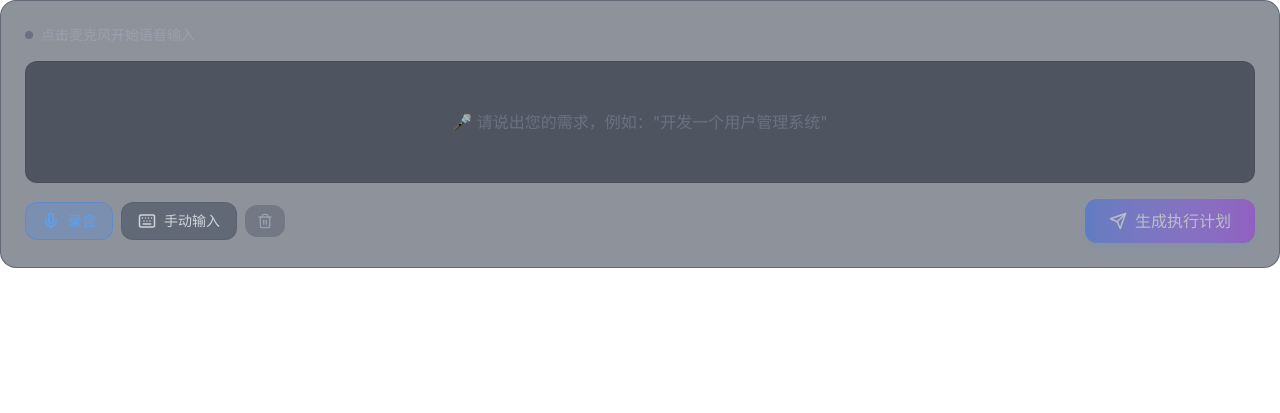
Test case: VoiceInput › 点击手动输入按钮应该显示文本输入框
Step 1. Click the button "手动输入" → [179, 221], box 121,202 -> 237,240
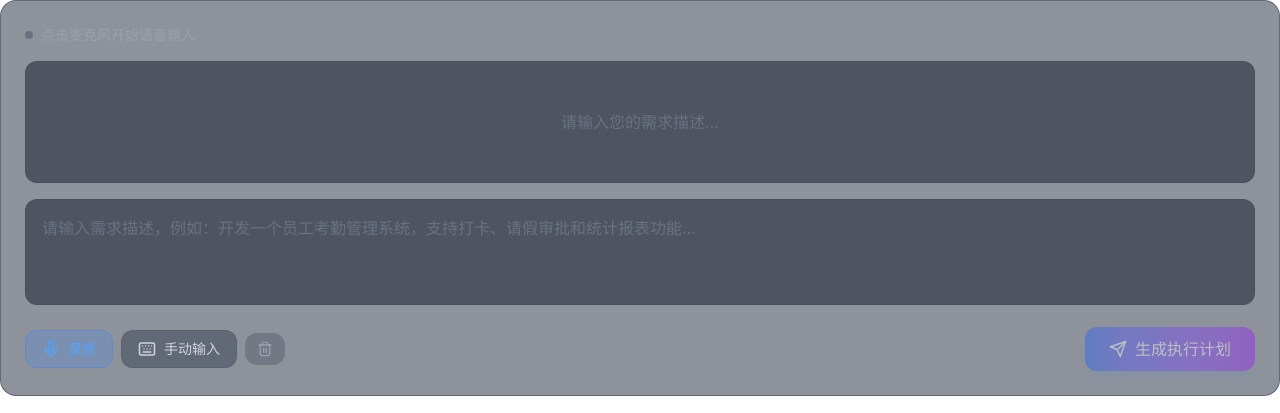
Result: the text box with placeholder "请输入需求描述，例如：开发一个员工考勤管理系统，支持打卡、请假审批和统计报表功能..." is shown at 25,199 -> 1255,305
